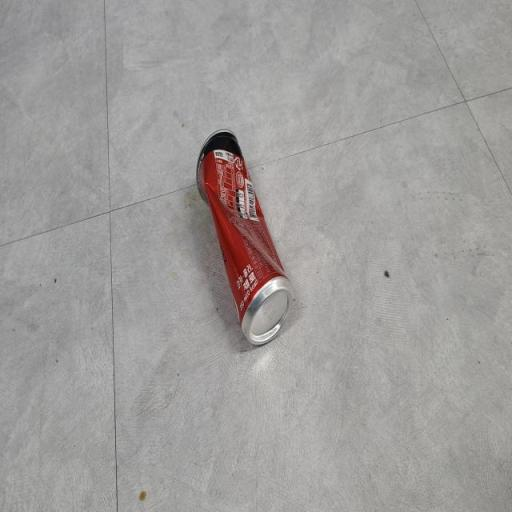metal: (190, 110, 297, 365)
